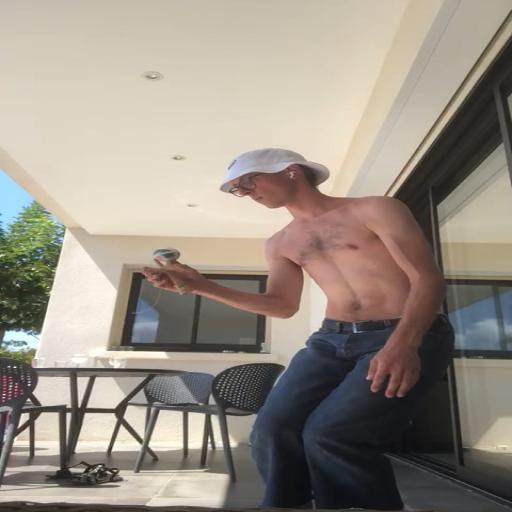kendama_ball: (152, 247, 180, 261)
